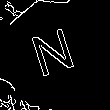N_S: (28, 25, 82, 85)
